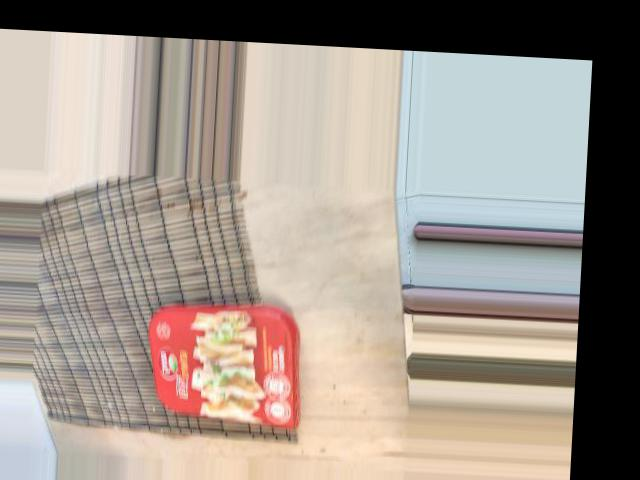cheese: (159, 167, 298, 357)
